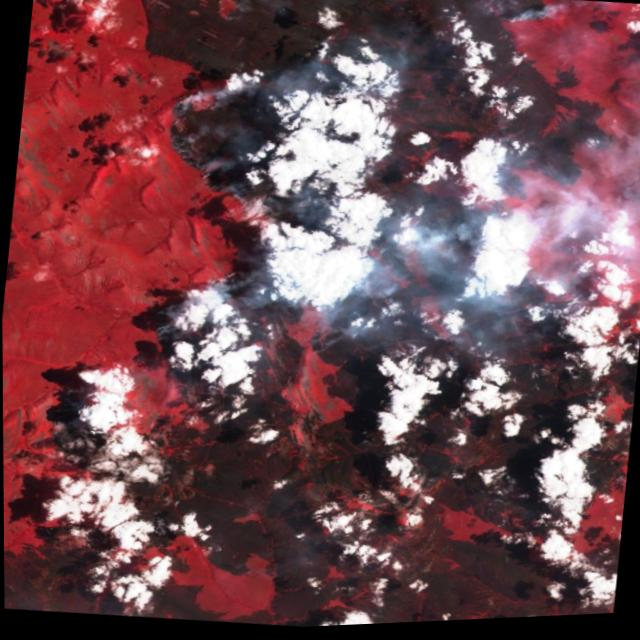fire: (137, 73, 305, 231), (134, 277, 263, 399), (35, 371, 98, 458), (362, 225, 444, 282), (478, 0, 562, 40), (289, 318, 349, 366), (124, 0, 244, 11)
